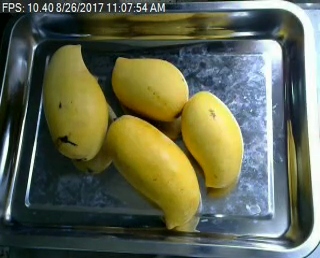Mango: (100, 112, 199, 234), (39, 43, 110, 159), (100, 51, 192, 122), (178, 91, 242, 190)
